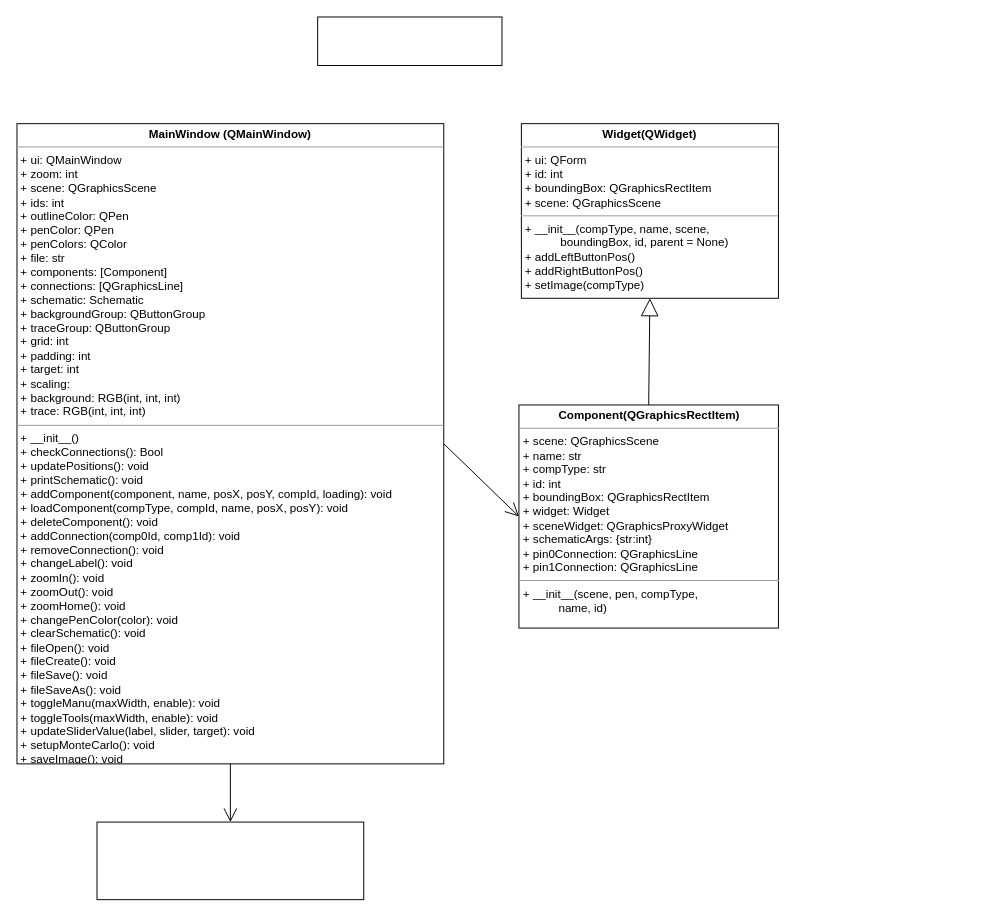
Image size: 1007x917. Some labels were removed from this diagram. The centre of each missing label's shape, as x and y in pixels:
"Circuit Board Designer Class Diagram (Python 3)" goes at [409,40].
"Schematic (from other diagram)" goes at [230,860].
